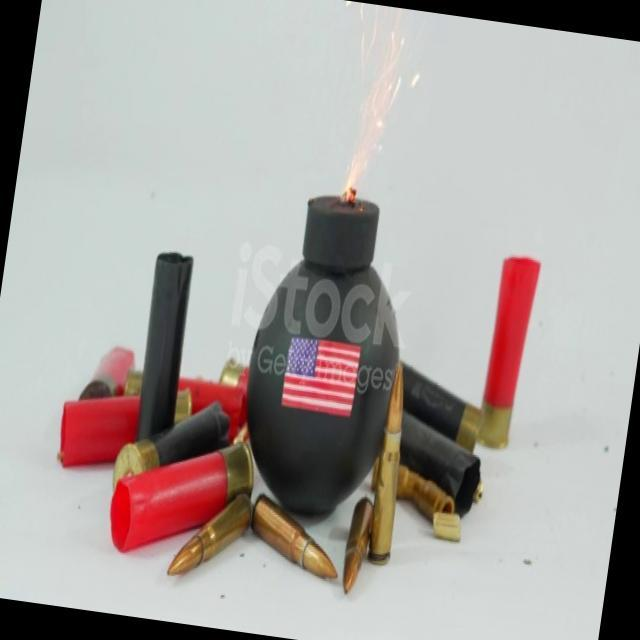grenade: (227, 178, 424, 532)
